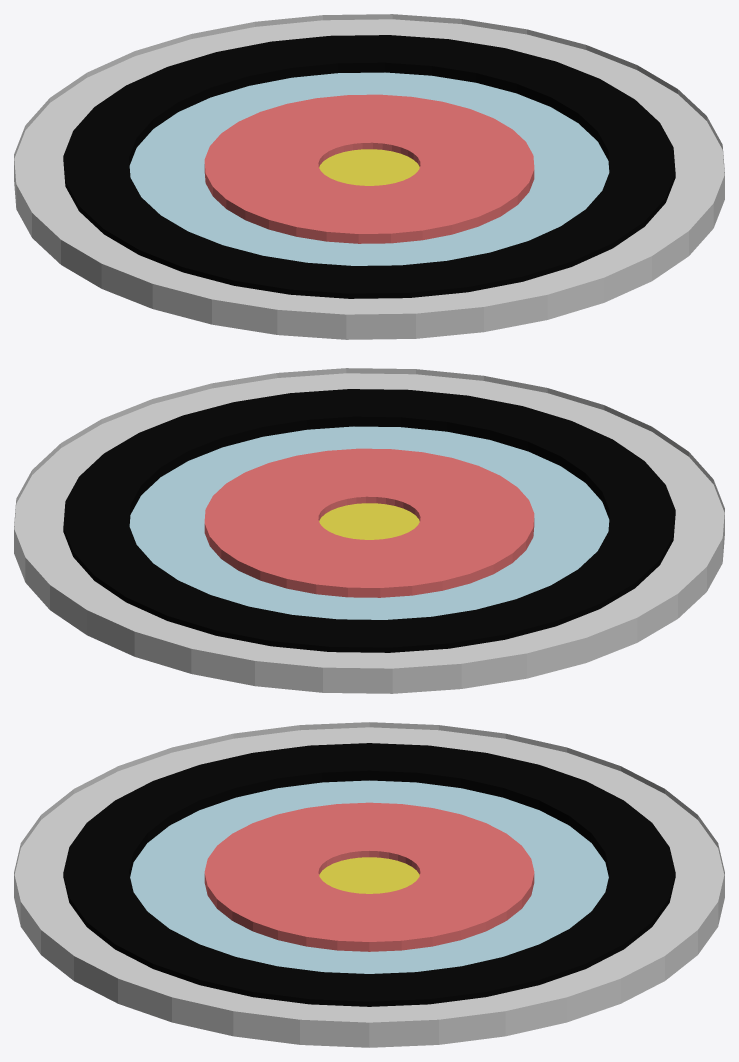
The model's file is target.glb.
3 views of the same model, one above another, from view 1: azimuth 30°, elevation 25°; view 2: azimuth 150°, elevation 25°; view 3: azimuth 270°, elevation 25° (orthographic).
Parts seen in each view (by area): view 1: Target; view 2: Target; view 3: Target.
Part boxes in pixels (bbox=[...]): Target: bbox=[14, 14, 724, 339]; Target: bbox=[14, 368, 724, 693]; Target: bbox=[14, 722, 724, 1047].
Size of the model in its own units: 2 by 0.0782 by 2.
